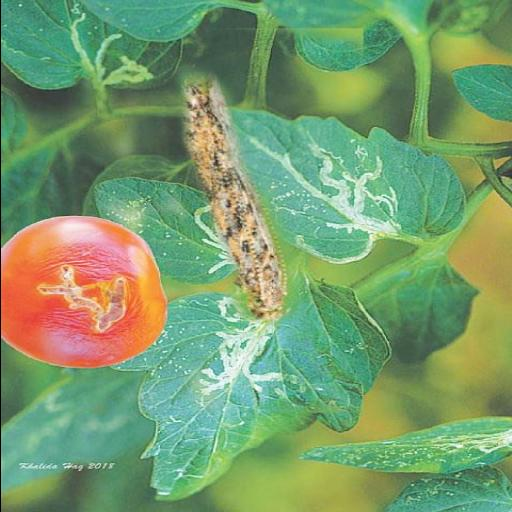disease_tomato: (108, 285, 394, 499), (230, 108, 472, 262), (89, 178, 235, 284)
